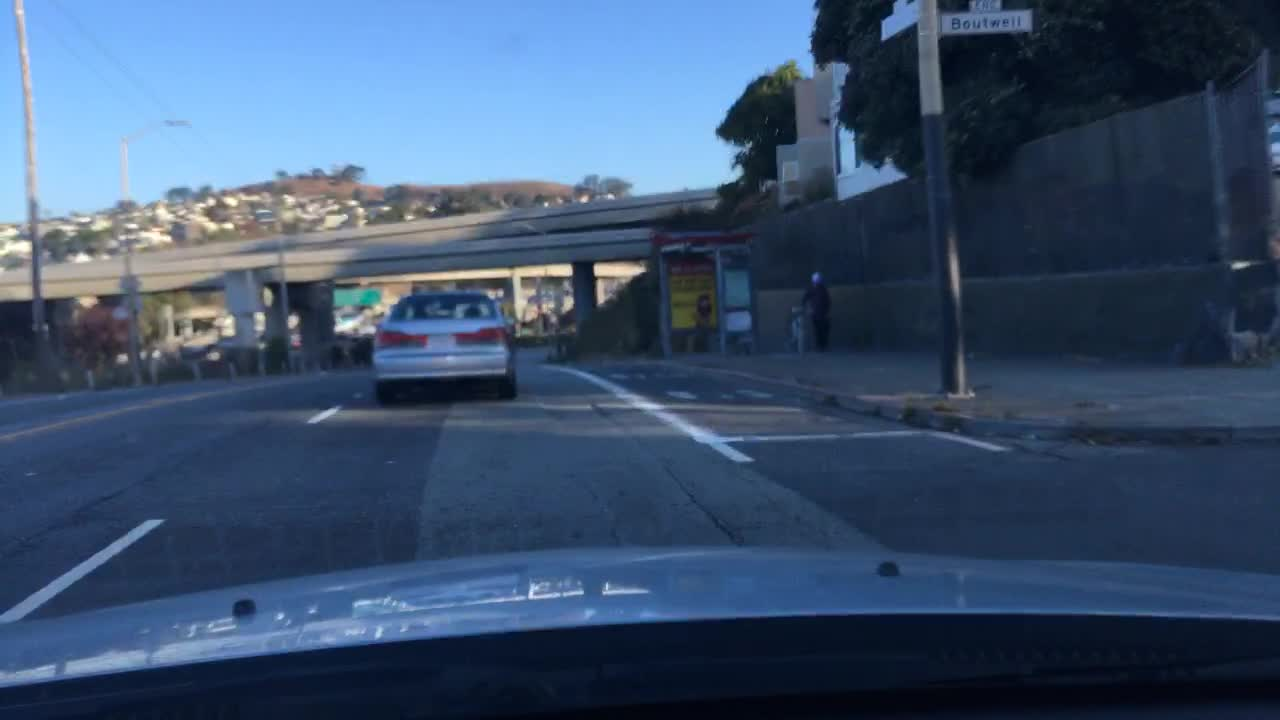bike: (788, 301, 815, 352)
car: (368, 288, 518, 411)
person: (798, 270, 834, 351)
traffic sign: (938, 10, 1031, 33), (880, 3, 924, 41), (723, 266, 752, 307), (333, 287, 380, 307), (969, 0, 1001, 10), (892, 0, 908, 12)
